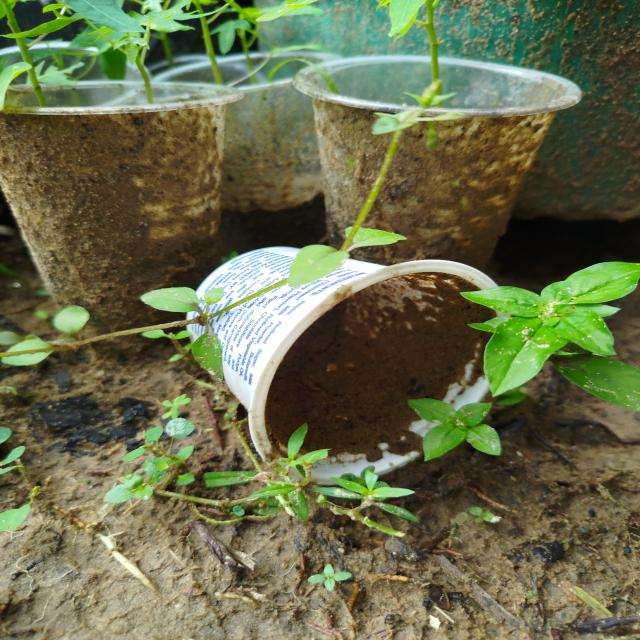plastic: (162, 230, 520, 516), (0, 69, 265, 346), (299, 54, 586, 274), (160, 51, 364, 220)
